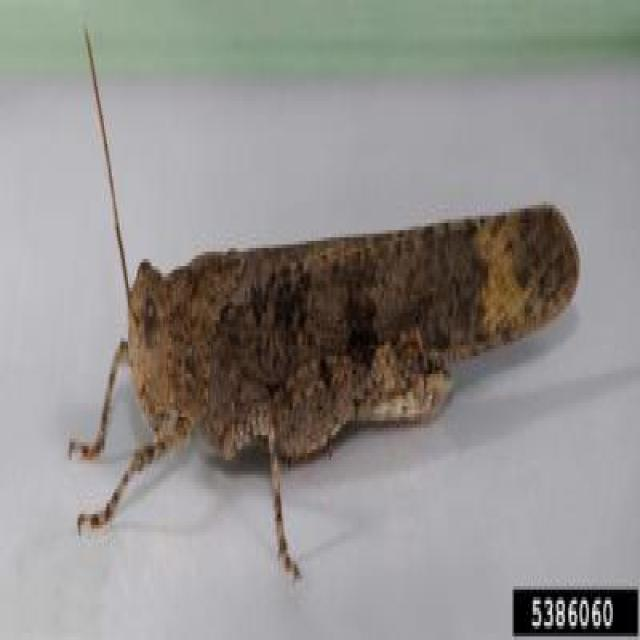antennae: (83, 29, 135, 300)
body: (127, 235, 471, 448)
insect: (68, 24, 584, 578)
legs: (230, 389, 306, 579), (76, 407, 185, 536), (73, 345, 133, 469)
mouthpart: (136, 374, 168, 434)
wings: (246, 206, 579, 371)
